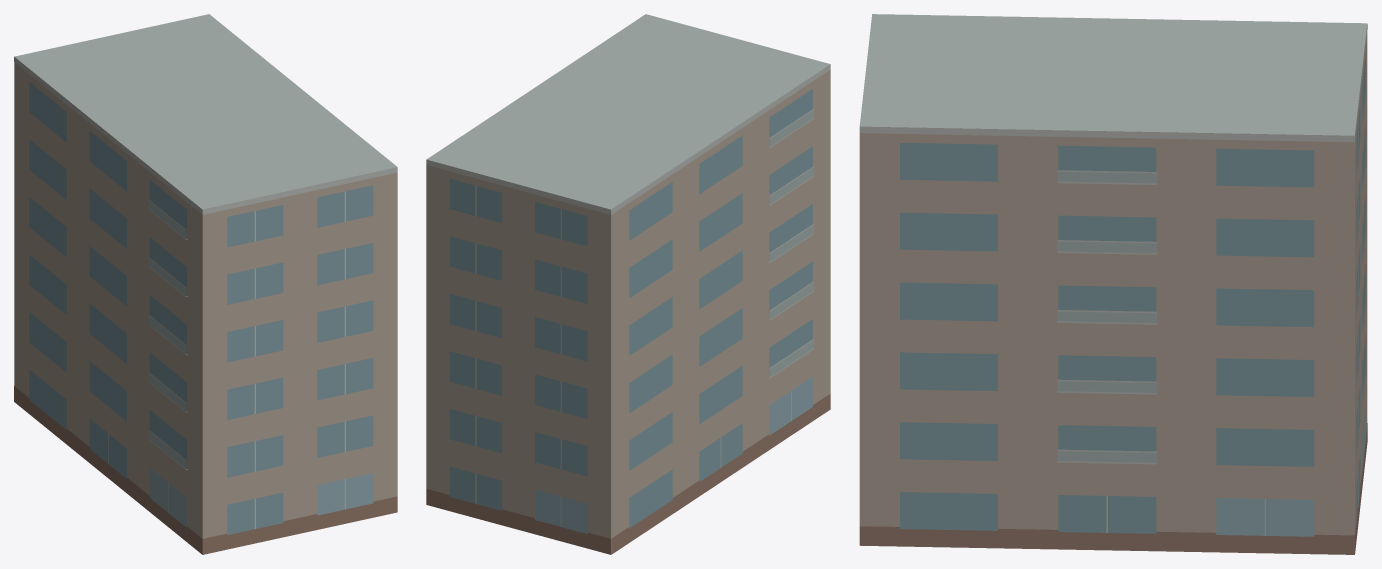
Rendered from survey-upis-32662109.glb.
The picture shows the model from 3 angles, left to right: view 1: azimuth 30°, elevation 25°; view 2: azimuth 150°, elevation 25°; view 3: azimuth 270°, elevation 25°; orthographic projection. The views are drawn at different scales.
Visible parts, largest first — view 1: survey-upis-32662109.tmp; view 2: survey-upis-32662109.tmp; view 3: survey-upis-32662109.tmp.
Boxes of the visible parts, <box> form: survey-upis-32662109.tmp: <box>14,14,397,554</box>; survey-upis-32662109.tmp: <box>426,14,830,554</box>; survey-upis-32662109.tmp: <box>859,14,1367,554</box>.
Size of the model in its own units: 9.79 by 15.7 by 17.25.
